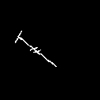treble_crochet: (15, 31, 55, 65)
